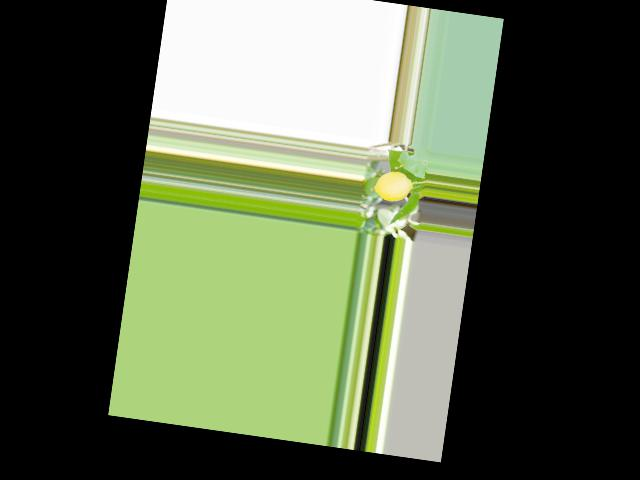lemon: (367, 168, 415, 207)
